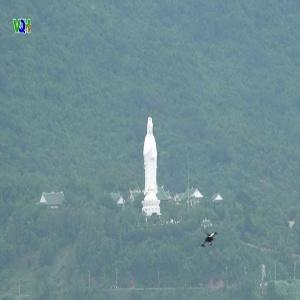drone: (172, 205, 235, 268)
